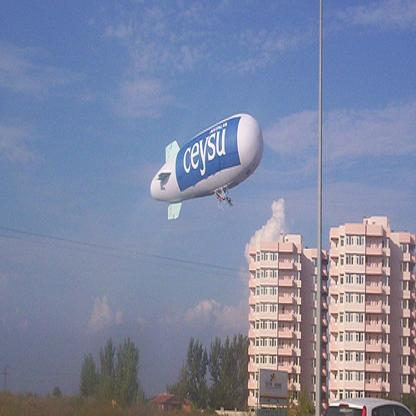Airship: (147, 112, 266, 223)
